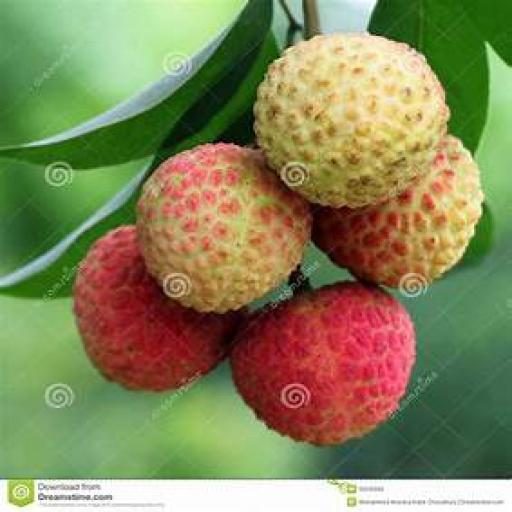lychee: (256, 35, 448, 208), (232, 282, 414, 445), (138, 144, 311, 312), (75, 226, 240, 390), (313, 137, 483, 290)
